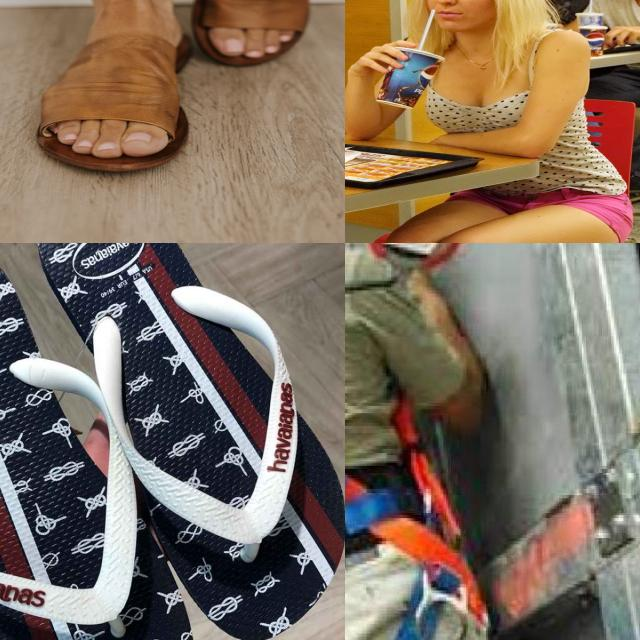Harness: (345, 249, 486, 640)
Sandals: (0, 243, 345, 640), (35, 2, 190, 172), (189, 0, 317, 69)
